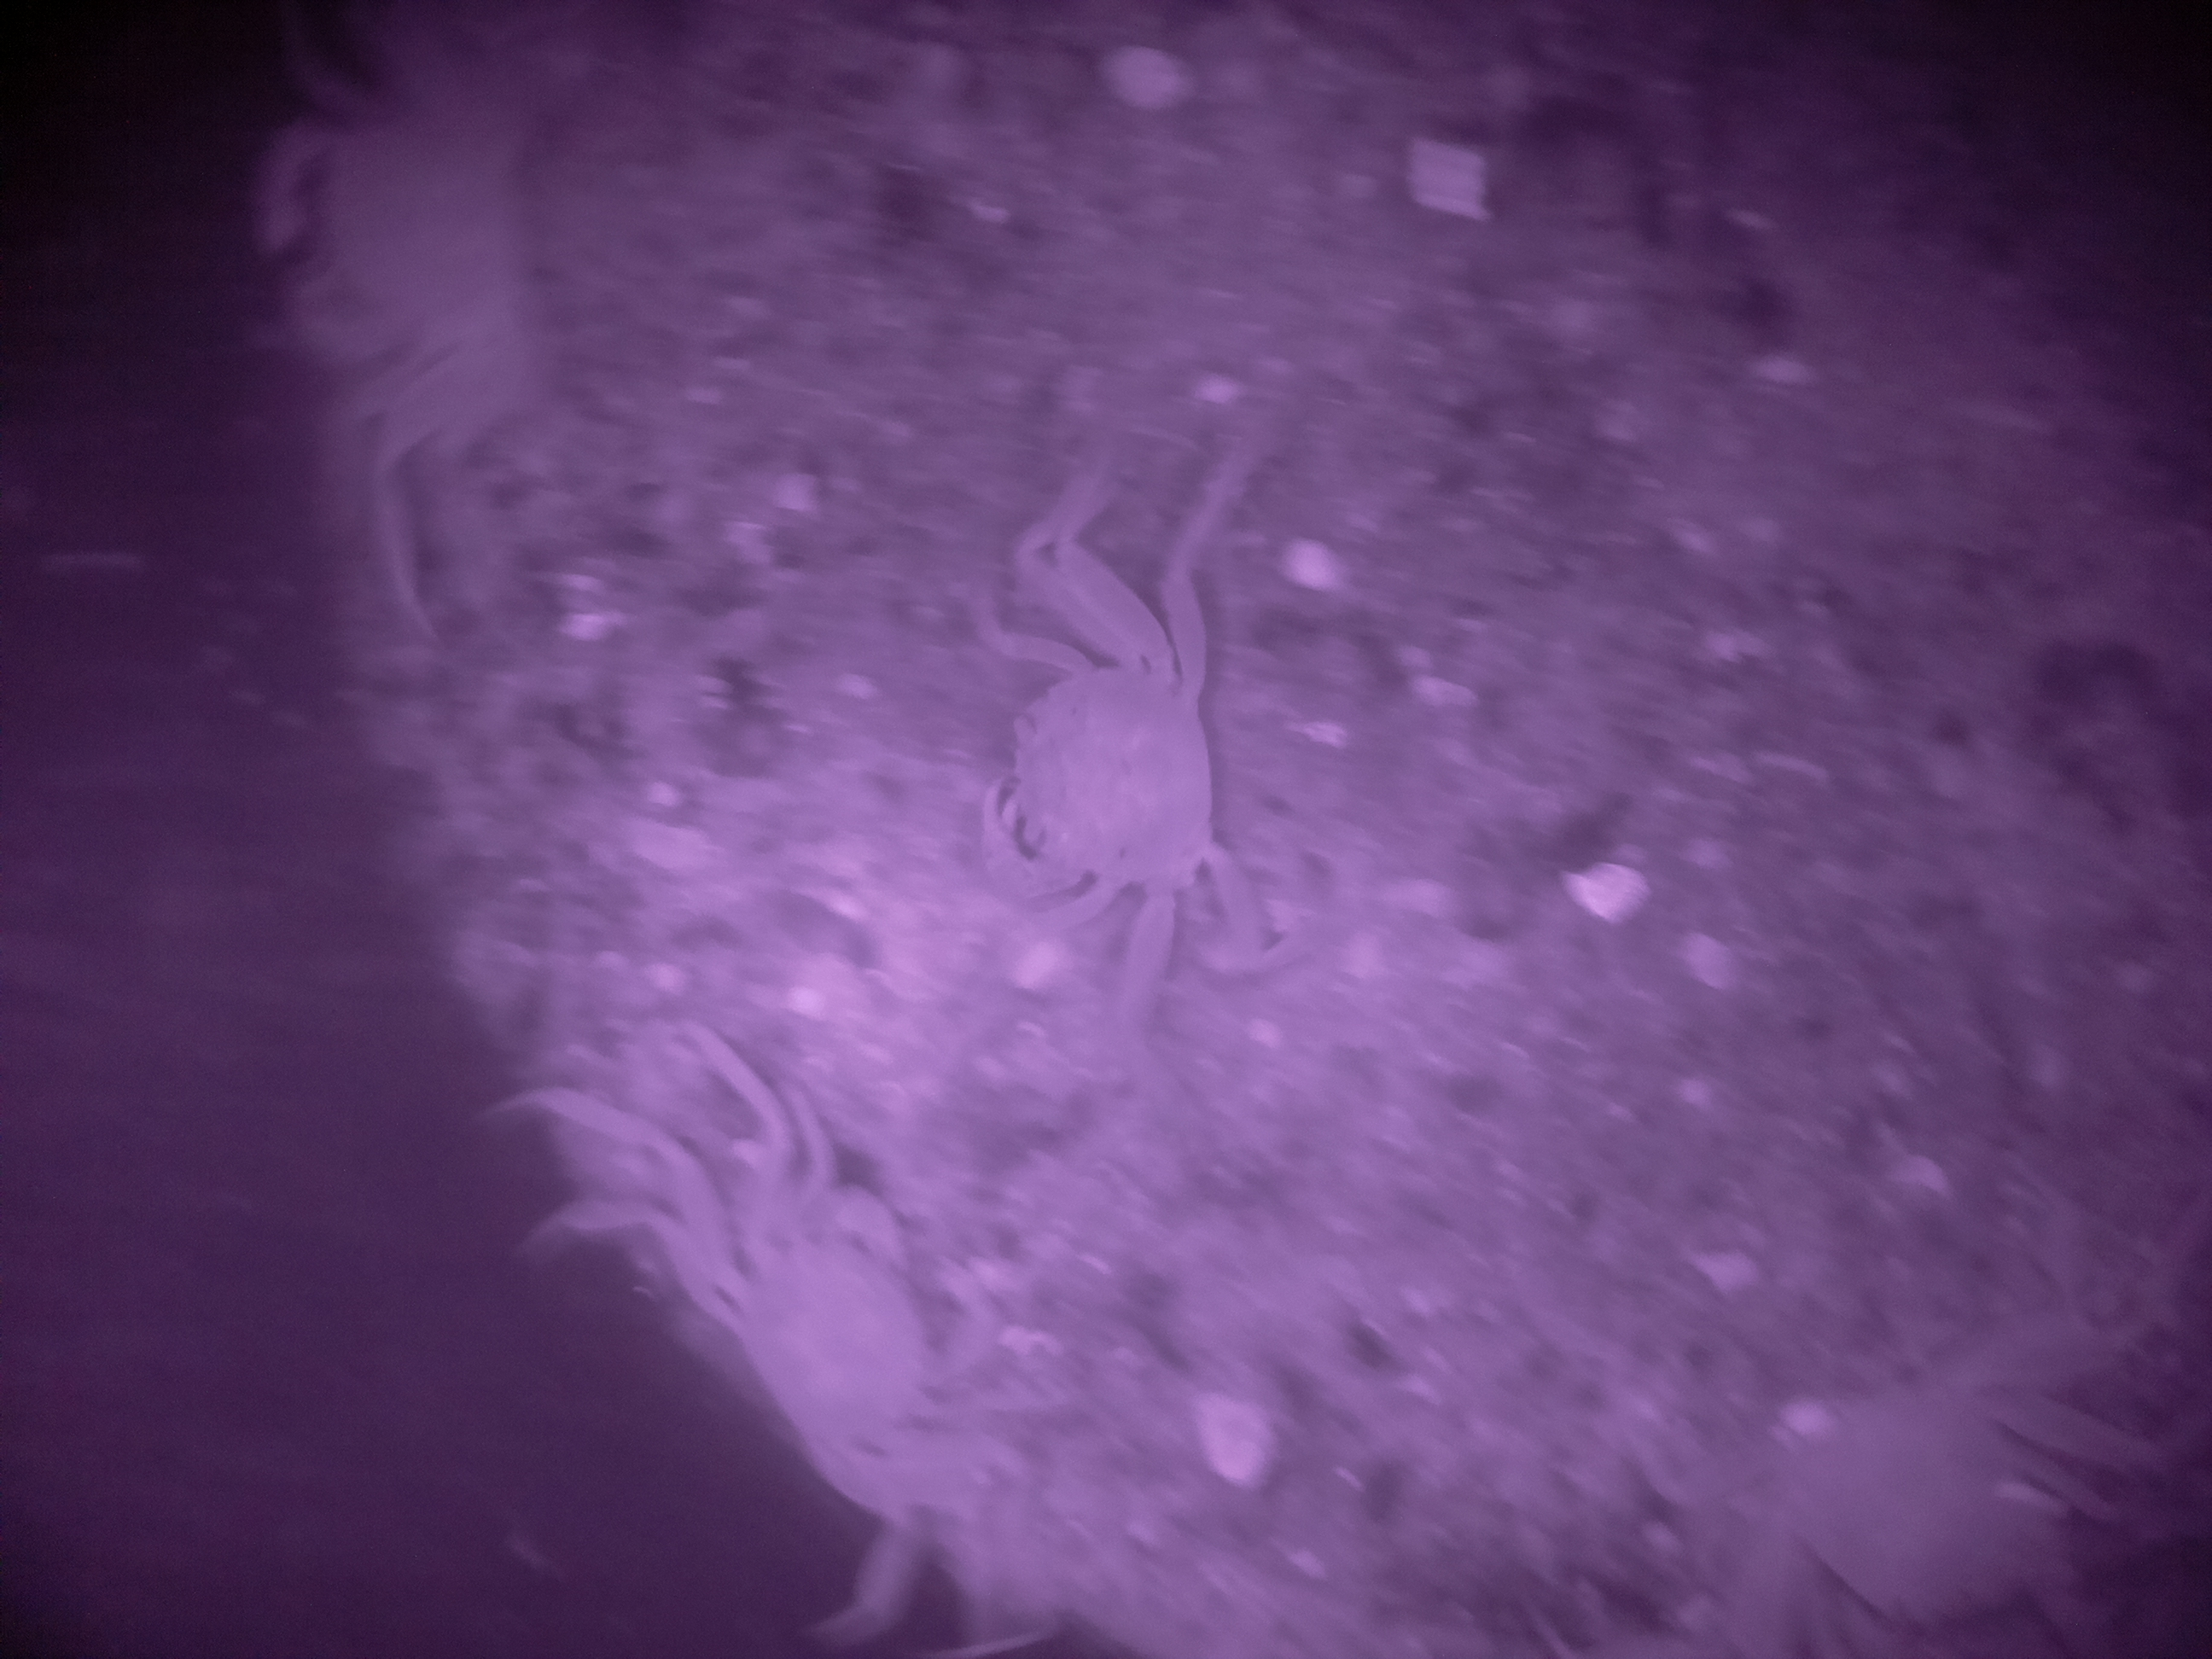Crab: (563, 1093, 1109, 1643), (890, 505, 1355, 1068)
